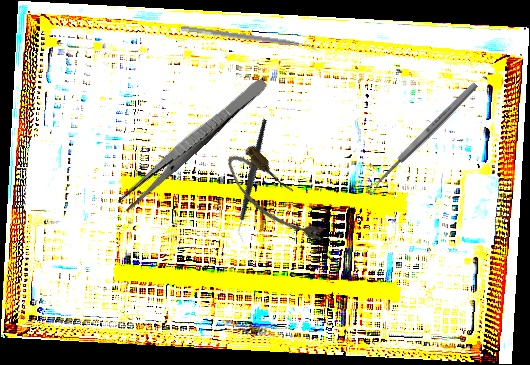Cannula: (218, 140, 334, 259)
Chopper: (200, 118, 307, 243)
Dressing Forceps: (115, 73, 270, 214)
Spatula Surgical: (179, 25, 320, 54)
Surgical Spoon: (364, 80, 480, 196)
